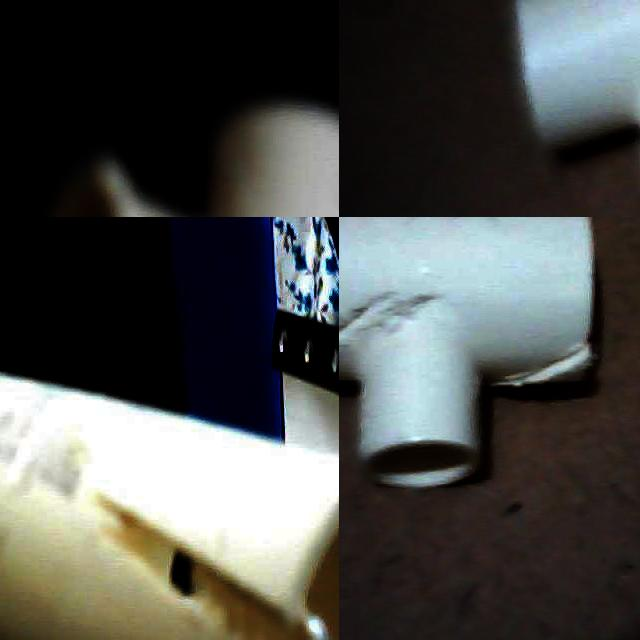Defective: (61, 437, 339, 640), (486, 328, 614, 408), (339, 235, 373, 387)
T Joint: (0, 371, 339, 640), (339, 217, 601, 493)
